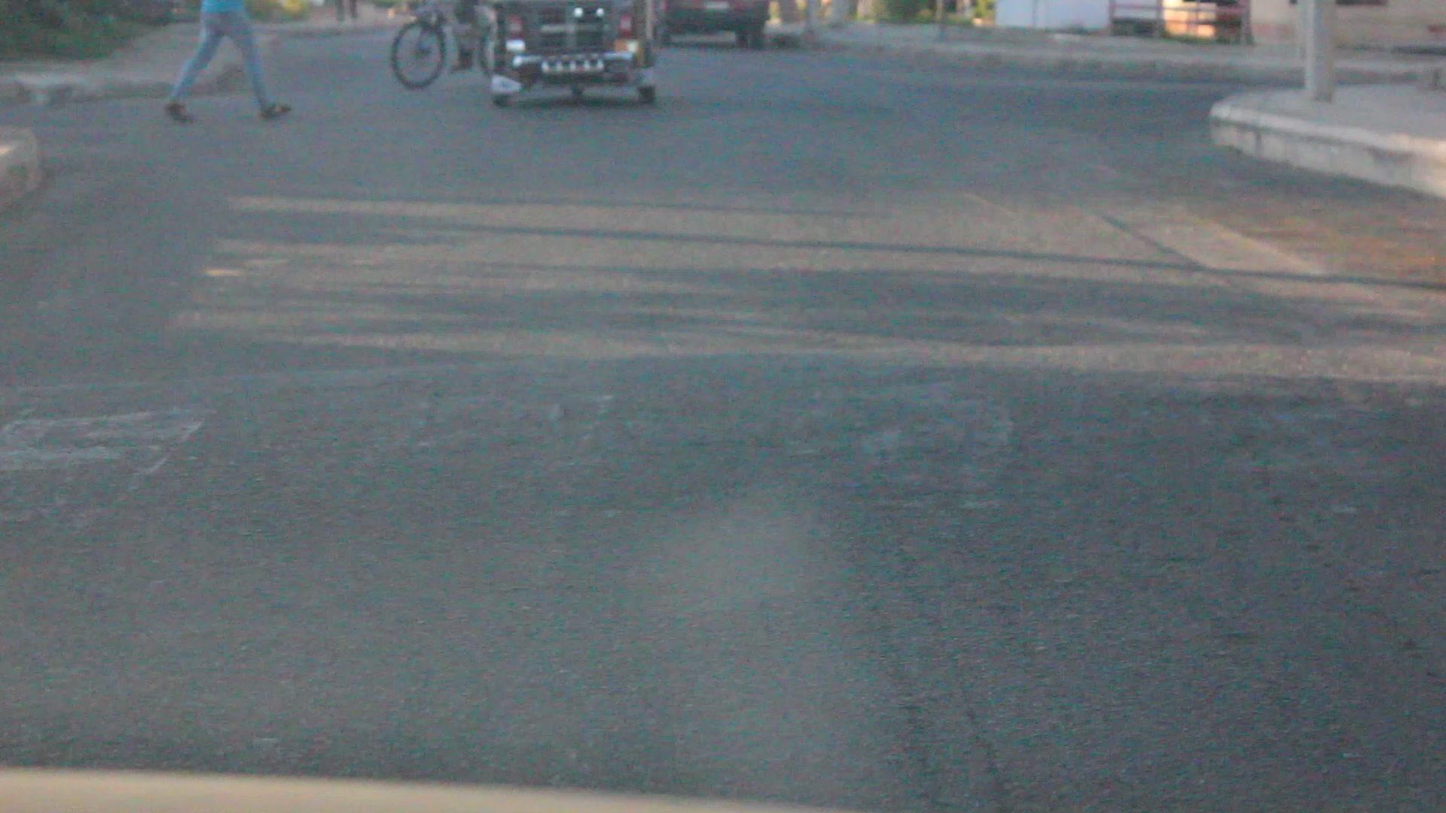Bump: (0, 365, 1446, 514)
